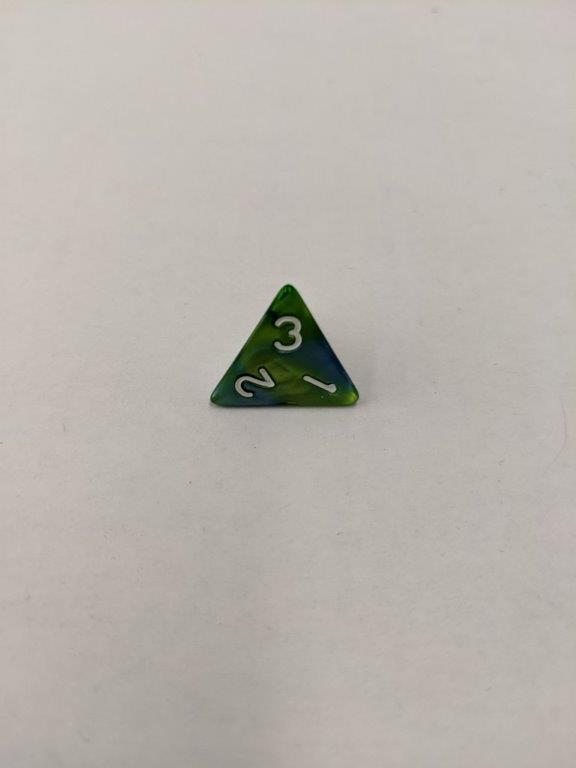d4-3: (209, 283, 360, 413)
